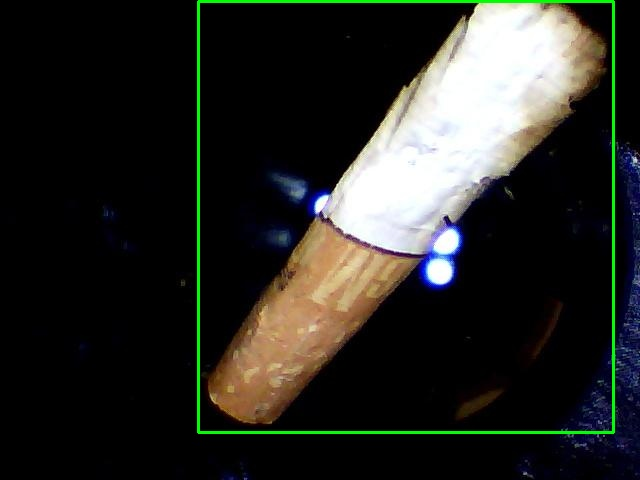megot: (198, 1, 613, 432)
